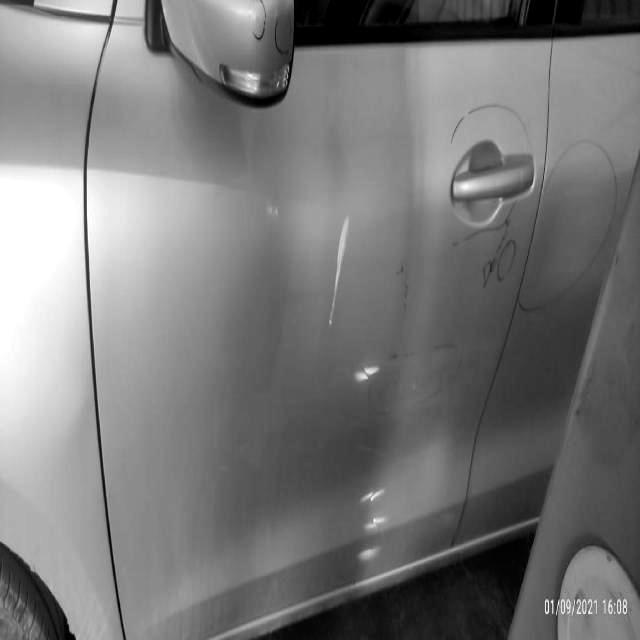doorouter-dent: (148, 48, 473, 586)
